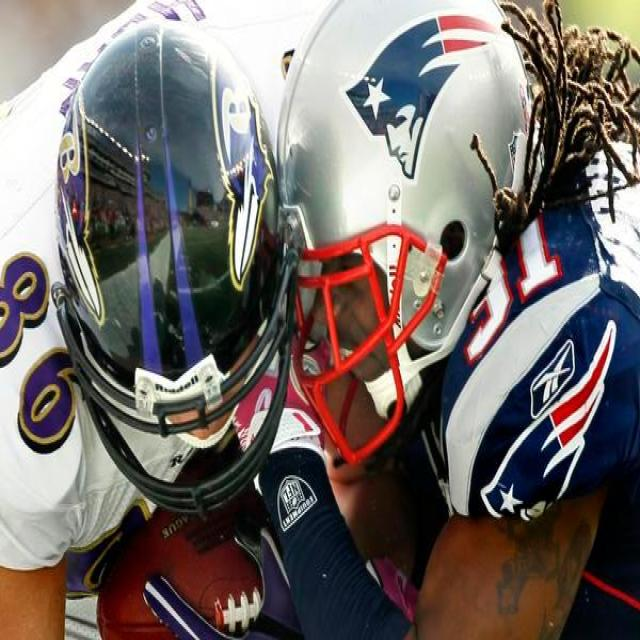illegal_helmet: (49, 12, 300, 529), (271, 0, 536, 472)
